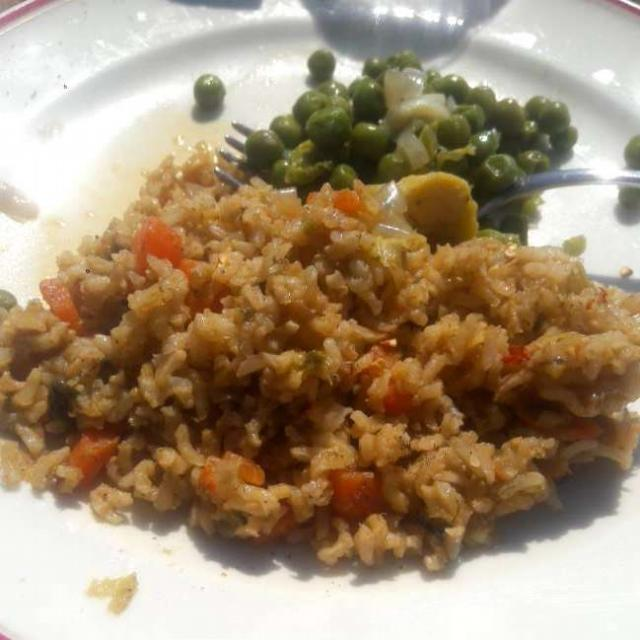fried-rice: (6, 150, 633, 570)
onion: (367, 64, 487, 176)
